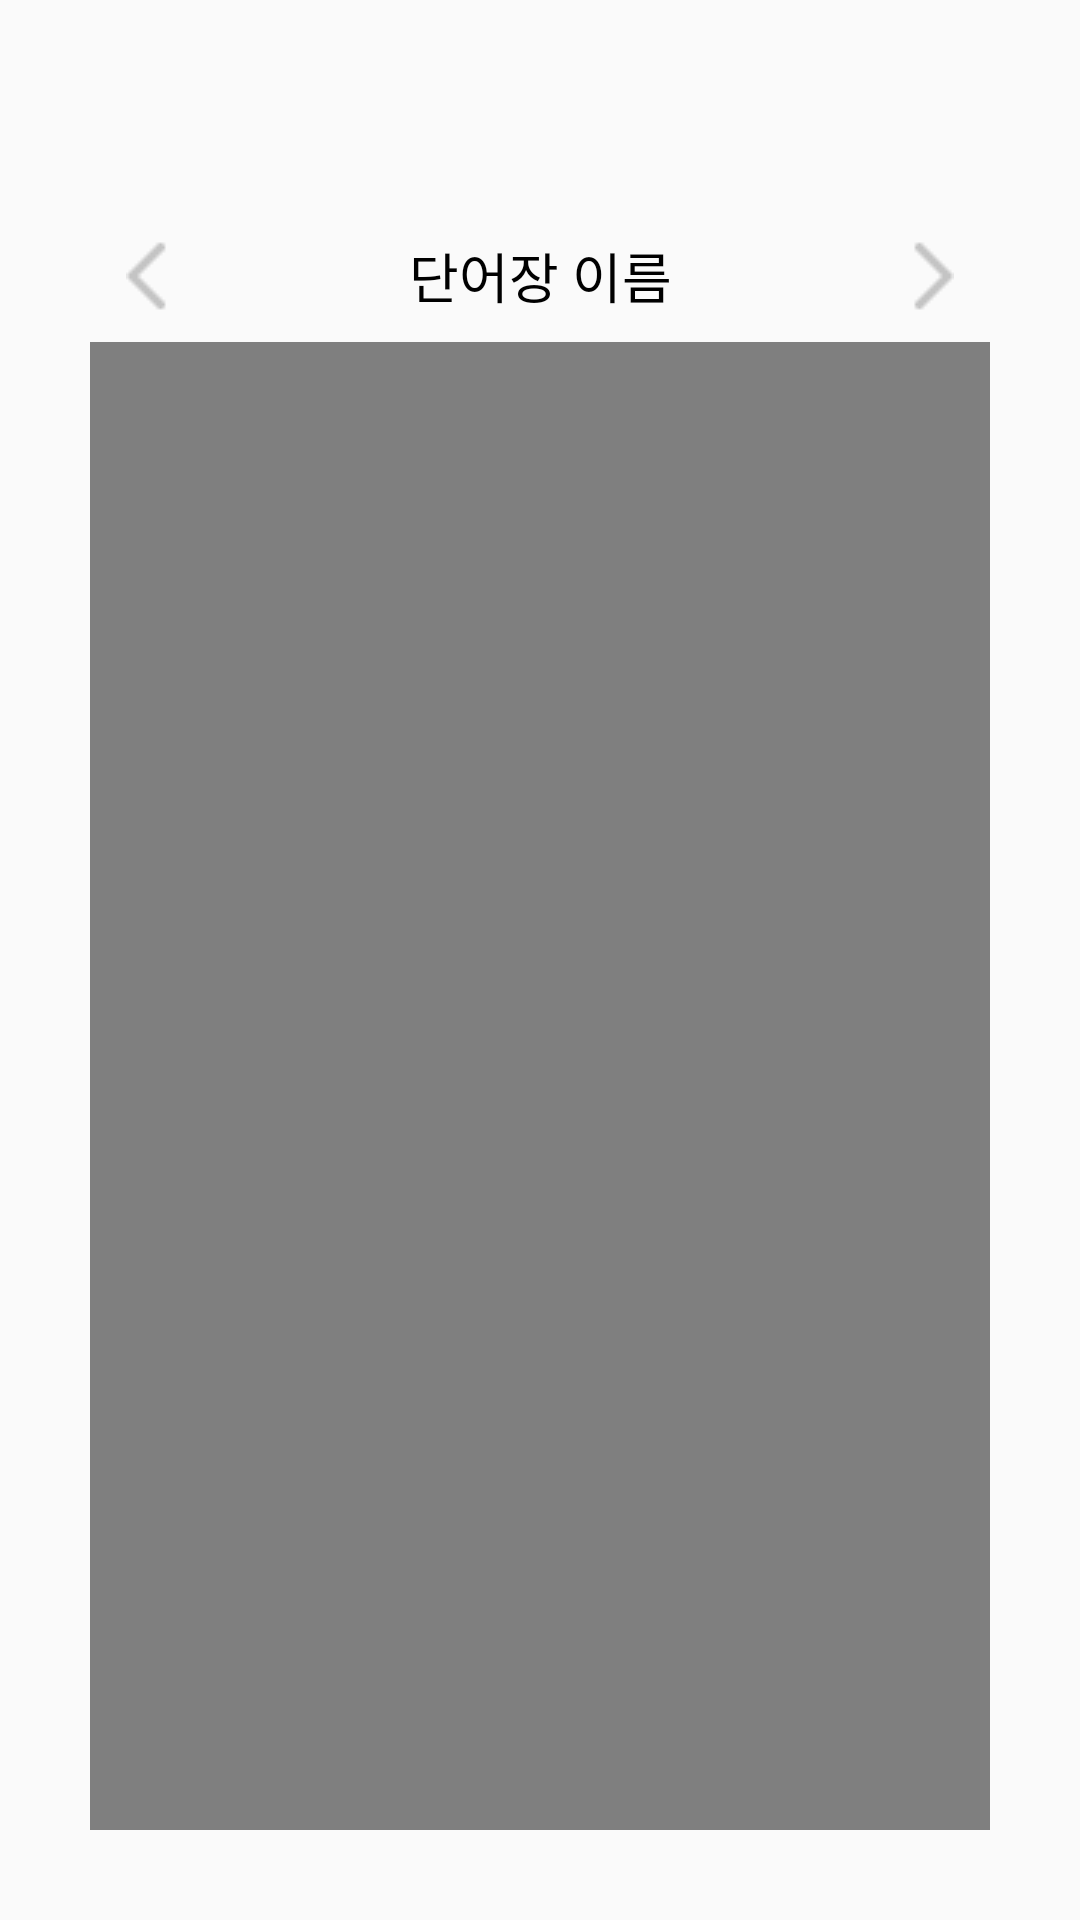

Point at icon controls on the screen. Image size 1080×1920, points as (x,y).
left: (146,276)
right: (933,276)
